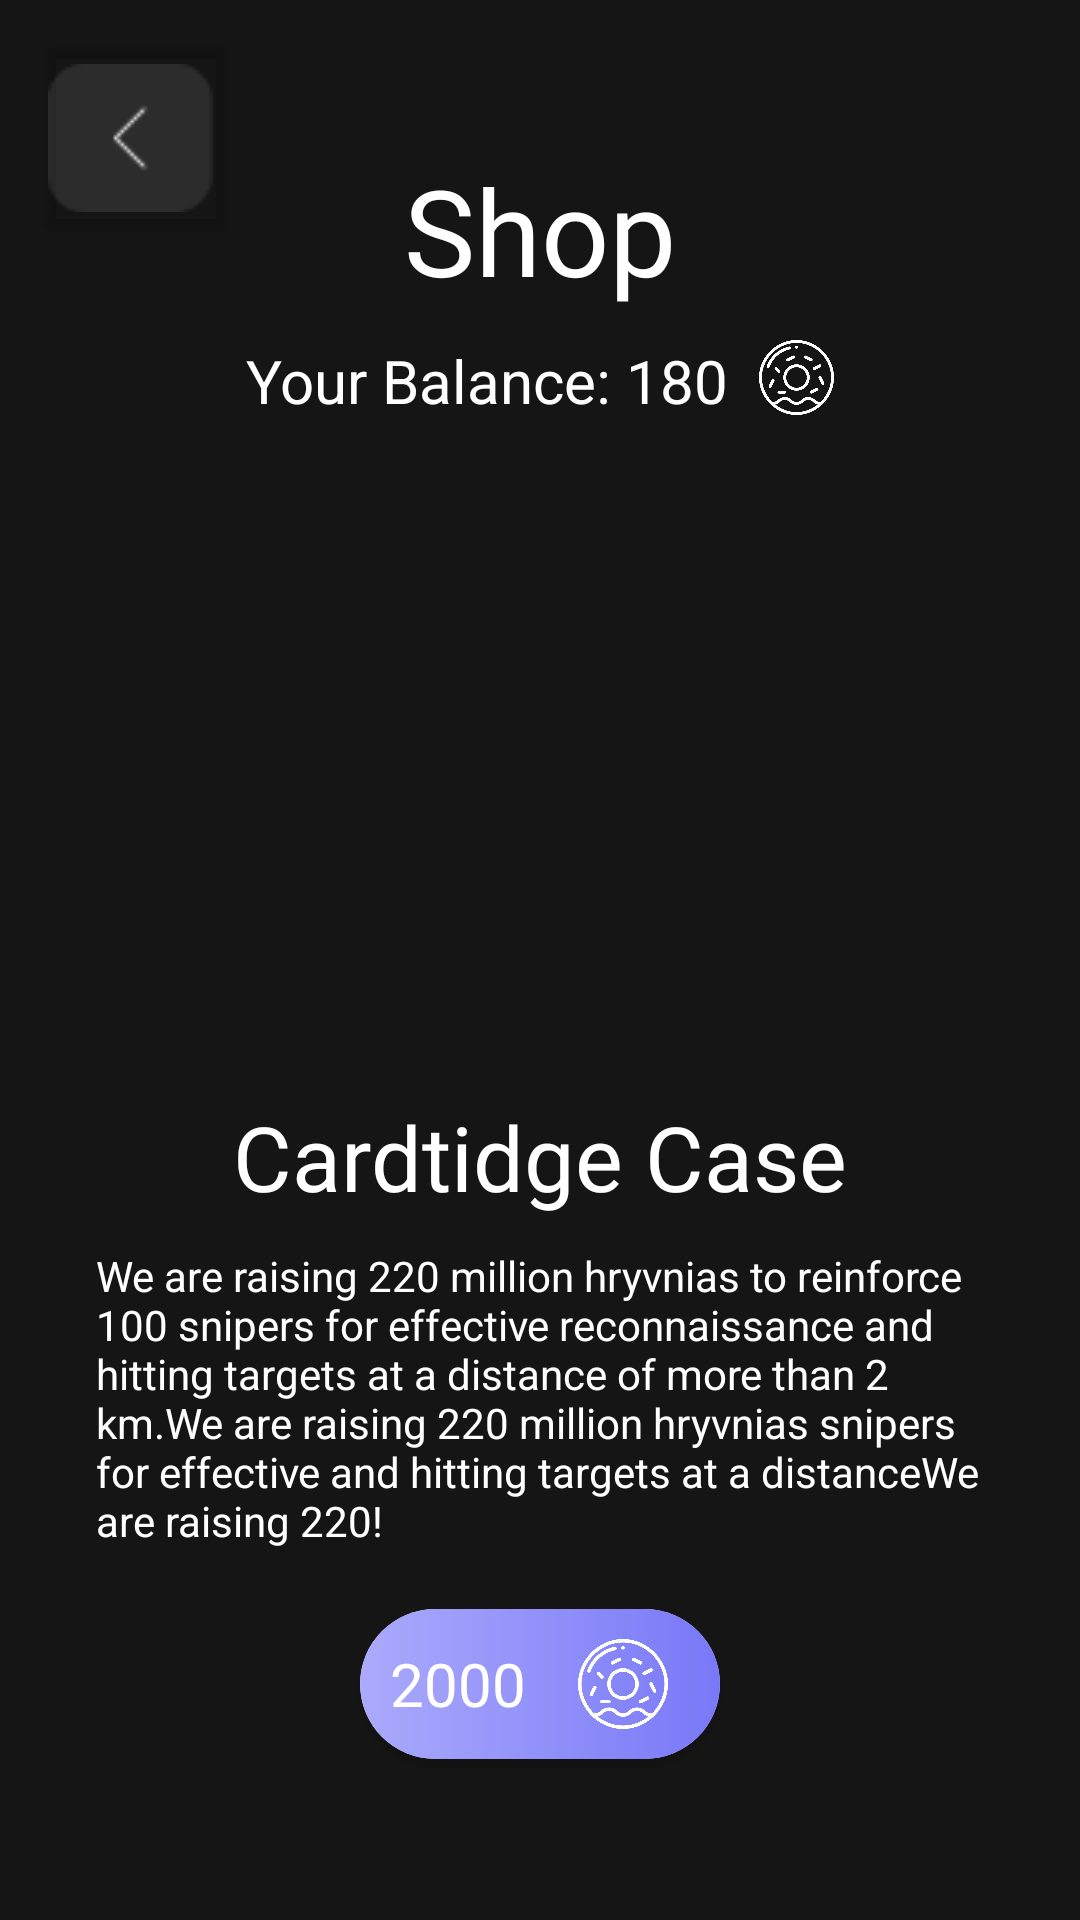

Icon bounding boxes for this 1080 x 1920 phone screenshot, format (x1, y1, x2, y2):
back arrow: (56, 64, 208, 212)
donut: (759, 340, 834, 415), (578, 1624, 705, 1744)
